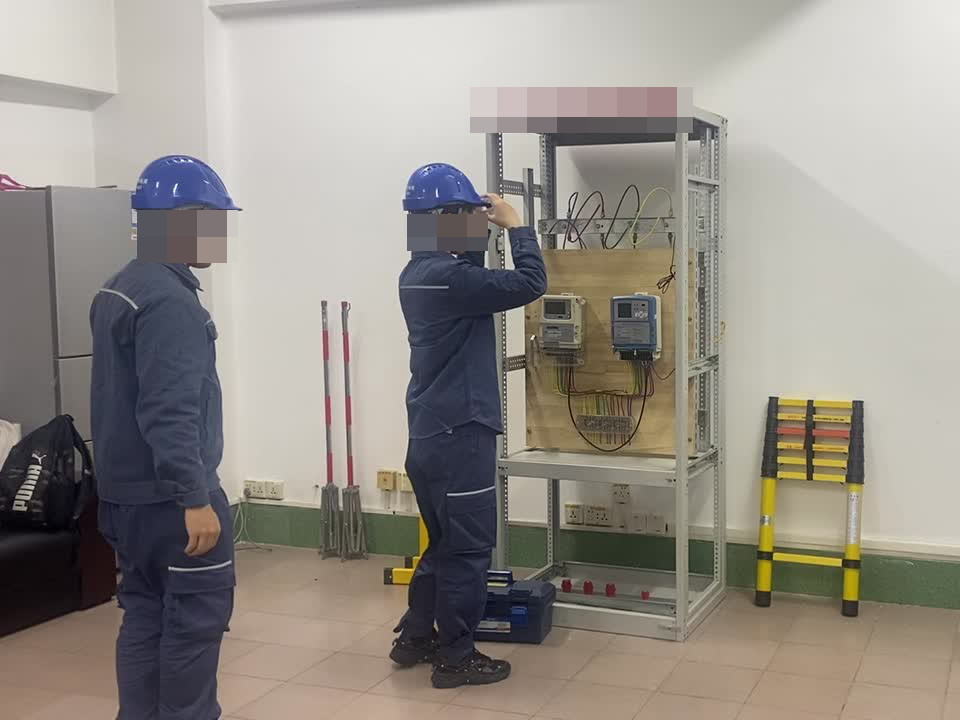downsuit: (101, 507, 243, 720), (399, 437, 503, 654)
halt: (128, 152, 242, 267), (401, 162, 491, 248)
hand: (182, 505, 220, 555), (482, 197, 522, 228)
inear: (165, 208, 209, 258), (440, 208, 465, 247)
person: (87, 148, 255, 719), (389, 159, 548, 679)
upsuit: (89, 253, 230, 504), (395, 232, 547, 425)
